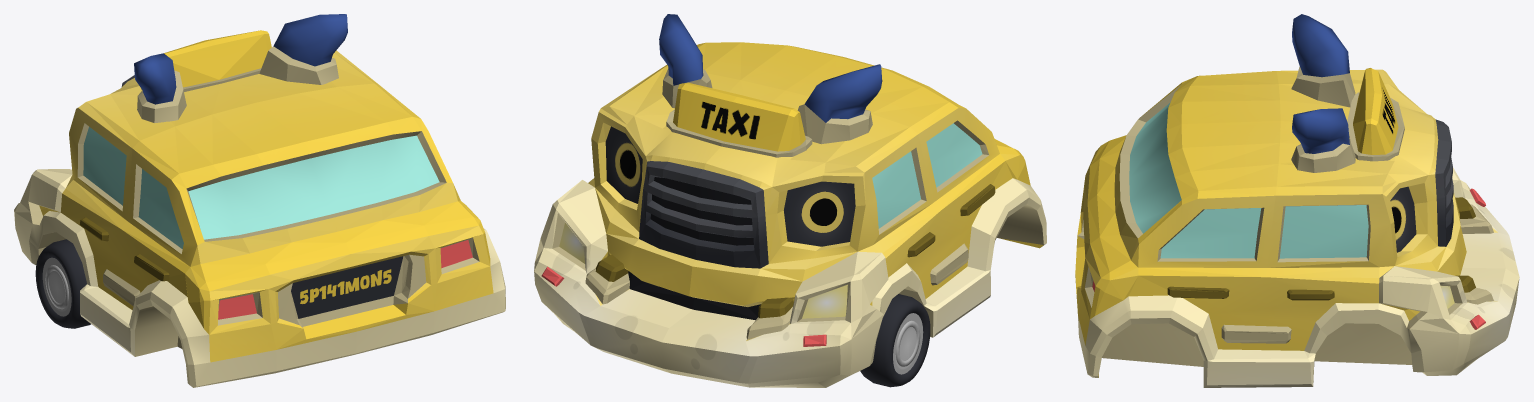
The model's file is TaxiSpmz.fbx.
3 views of the same model, side by side, from view 1: azimuth 30°, elevation 25°; view 2: azimuth 150°, elevation 25°; view 3: azimuth 270°, elevation 25° (orthographic). The views are drawn at different scales.
Parts seen in each view (by area): view 1: TAXI, Wheel; view 2: TAXI, Wheel; view 3: TAXI.
Boxes of the visible parts, x1,y1,x2,y2 form: TAXI: (14, 14, 505, 387); Wheel: (35, 239, 90, 328); TAXI: (534, 14, 1046, 387); Wheel: (860, 294, 930, 387); TAXI: (1075, 14, 1519, 387).
Size of the model in its own units: 3.39 by 2.73 by 4.01.
